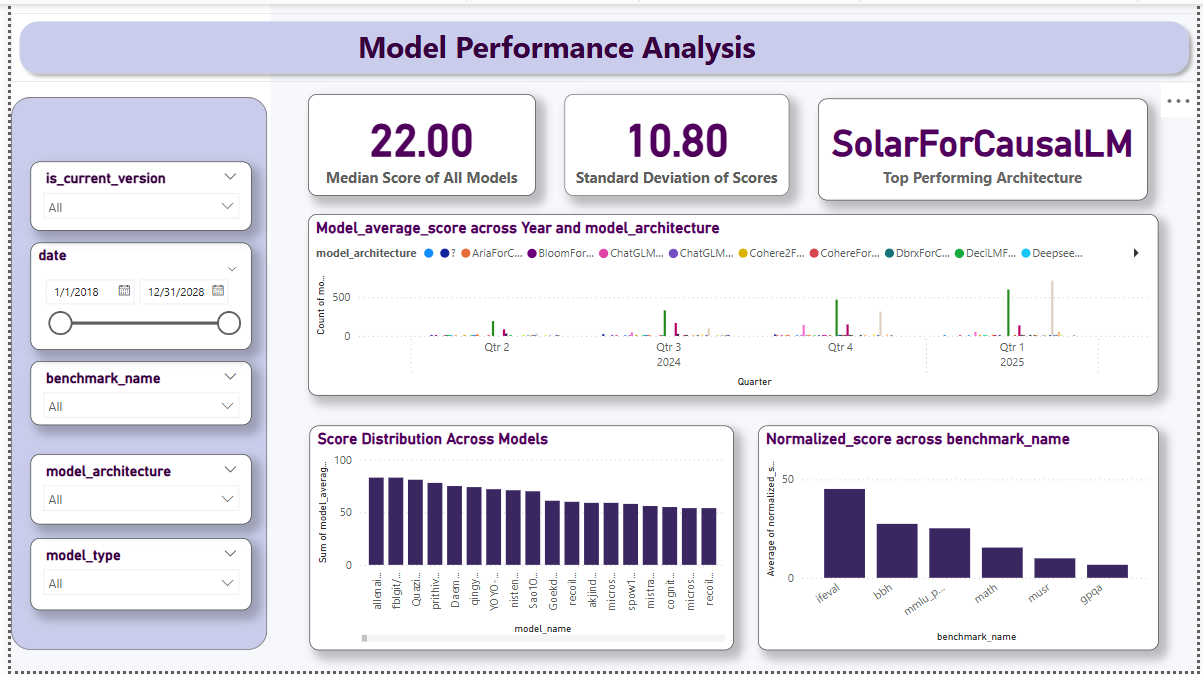

What the dashboard file says about the page in this screenshot:
{"tool":"powerbi","page":{"name":" Model Performance Analysis","canvas":[1280,720],"ordinal":2},"visuals":[{"type":"card","fields":{"Values":["FactModelSnapshot.Best Average Score (All Models)"]},"box":[0,0,280.1,280.1],"z":0},{"type":"card","fields":{"Values":["FactModelSnapshot.Median Score of All Models"]},"box":[320.6,97.2,246.1,110.1],"z":1000},{"type":"card","fields":{"Values":["FactModelSnapshot.Standard Deviation of Scores"]},"box":[597.5,97.2,242.9,110.1],"z":2000},{"type":"card","fields":{"Values":["FactModelSnapshot.Top Performing Architecture"]},"box":[871.1,102,356.2,110.1],"z":3000},{"type":"clusteredColumnChart","title":"Normalized_score across benchmark_name","fields":{"Y":["Avg(FactEvaluation.normalized_score)"],"Category":["DimBenchmark.benchmark_name"]},"box":[806.4,455,432.3,242.9],"z":4000},{"type":"clusteredColumnChart","title":"Model_average_score across Year and model_architecture","fields":{"Category":["DimDate.full_date.Variation.Date Hierarchy.Year","DimDate.full_date.Variation.Date Hierarchy.Quarter"],"Y":["CountNonNull(FactModelSnapshot.model_average_score)"],"Series":["DimModel.model_architecture"]},"box":[320.6,226.7,918.1,195.9],"z":5000},{"type":"clusteredColumnChart","title":"\tScore Distribution Across Models","fields":{"Category":["DimModel.model_name"],"Y":["Sum(FactModelSnapshot.model_average_score)"]},"box":[322.2,455,458.2,242.9],"z":6000},{"type":"shape","box":[0,100.4,276.9,597.5],"z":7000},{"type":"slicer","fields":{"Values":["DimModel.model_type"]},"box":[20.8,576.3,238.8,77.9],"z":8000},{"type":"slicer","fields":{"Values":["DimModel.model_architecture"]},"box":[20.8,486.3,238.8,76.1],"z":9000},{"type":"slicer","fields":{"Values":["DimBenchmark.benchmark_name"]},"box":[20.8,385.9,238.8,69.2],"z":10000},{"type":"slicer","title":"date","fields":{"Values":["DimDate.full_date"]},"box":[20.8,257.8,238.8,115.9],"z":11000},{"type":"slicer","fields":{"Values":["DimModel.is_current_version"]},"box":[20.8,169.6,238.8,74.4],"z":12000},{"type":"shape","box":[0,10,1280.6,74.4],"z":13000},{"type":"textbox","box":[369.2,17.8,629.9,56.7],"z":14000}]}

Visuals, with their boxes in screenshot pixels (x1, y1, x2, y2), scaled from the page's 1280x720 canvas onto the 1203x675 screenshot:
card - FactModelSnapshot.Best Average Score (All Models): rect(0, 0, 263, 263)
card - FactModelSnapshot.Median Score of All Models: rect(301, 91, 533, 194)
card - FactModelSnapshot.Standard Deviation of Scores: rect(562, 91, 790, 194)
card - FactModelSnapshot.Top Performing Architecture: rect(819, 96, 1153, 199)
"Normalized_score across benchmark_name" clusteredColumnChart: rect(758, 427, 1164, 654)
"Model_average_score across Year and model_architecture" clusteredColumnChart: rect(301, 213, 1164, 396)
"	Score Distribution Across Models" clusteredColumnChart: rect(303, 427, 733, 654)
shape: rect(0, 94, 260, 654)
slicer - DimModel.model_type: rect(20, 540, 244, 613)
slicer - DimModel.model_architecture: rect(20, 456, 244, 527)
slicer - DimBenchmark.benchmark_name: rect(20, 362, 244, 427)
"date" slicer: rect(20, 242, 244, 350)
slicer - DimModel.is_current_version: rect(20, 159, 244, 229)
shape: rect(0, 9, 1202, 79)
textbox: rect(347, 17, 939, 70)
